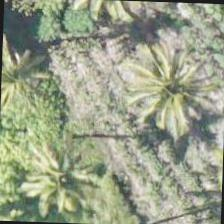Kelapa_Sawit: (122, 44, 216, 138), (16, 130, 109, 223)
